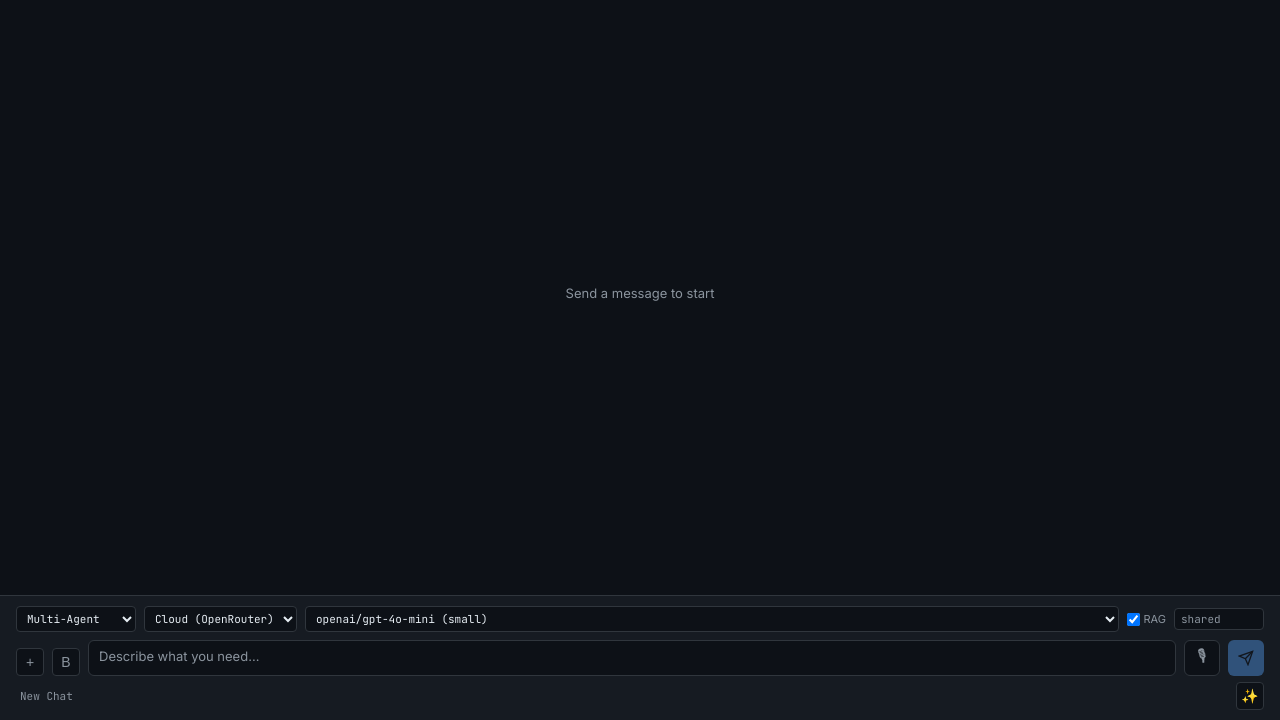
RAG toggle — ChatPanel integration › renders a RAG system bubble before the assistant reply
Step 1. Select "Simple Prompt" in the dropdown titled "Execution mode" → (76, 619), box [16,606,136,632]
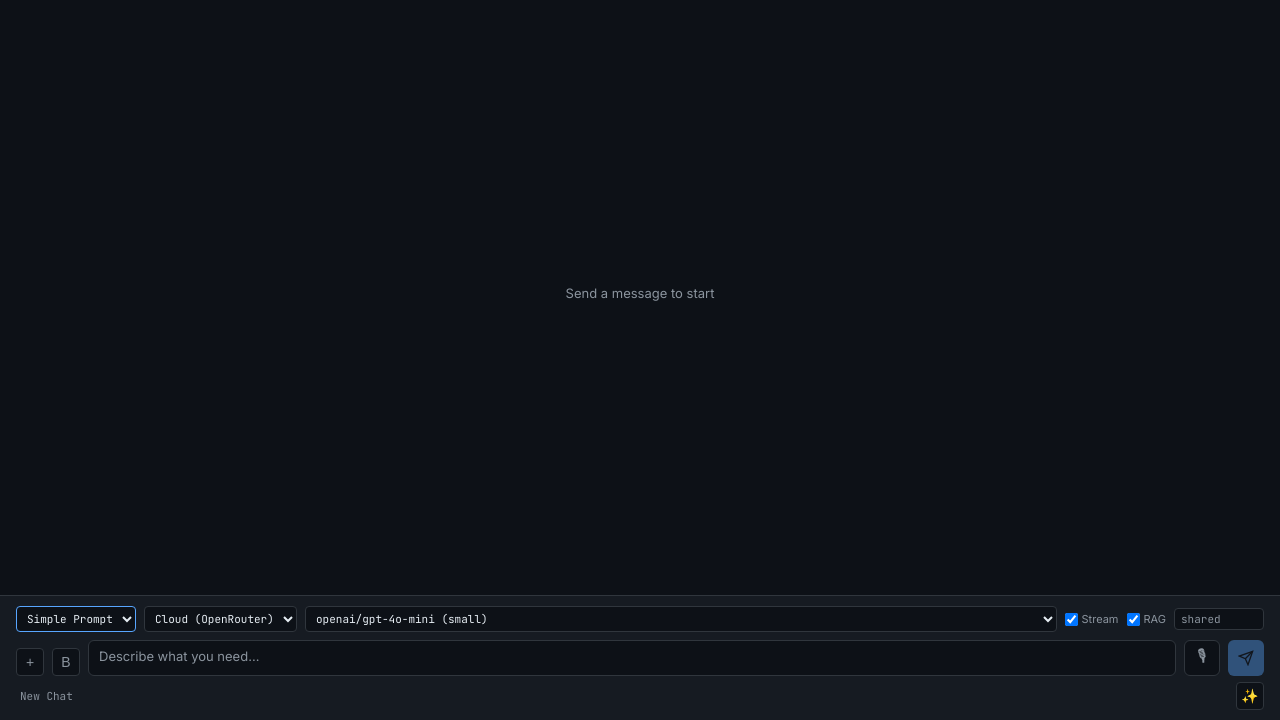
Step 2. Type "Tell me about RAG" into the text box with placeholder "Describe what you need..." → (632, 658), box [88,640,1176,676]
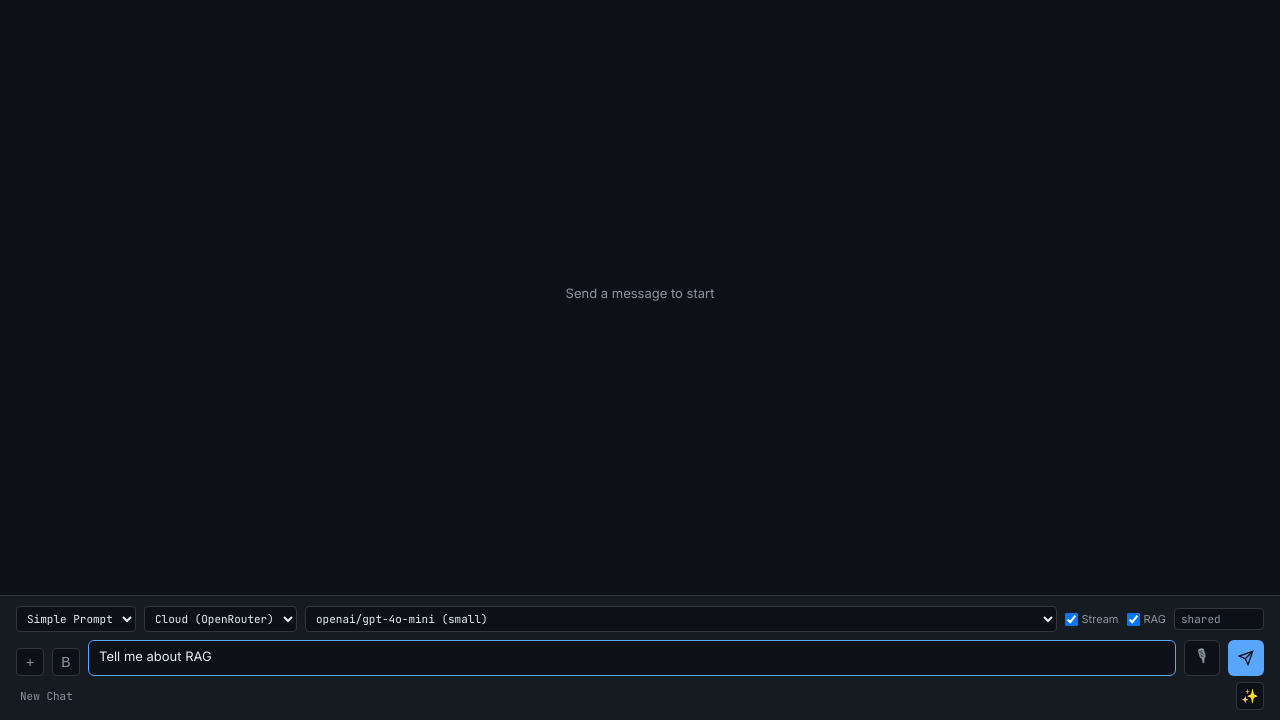
Step 3. Press Enter
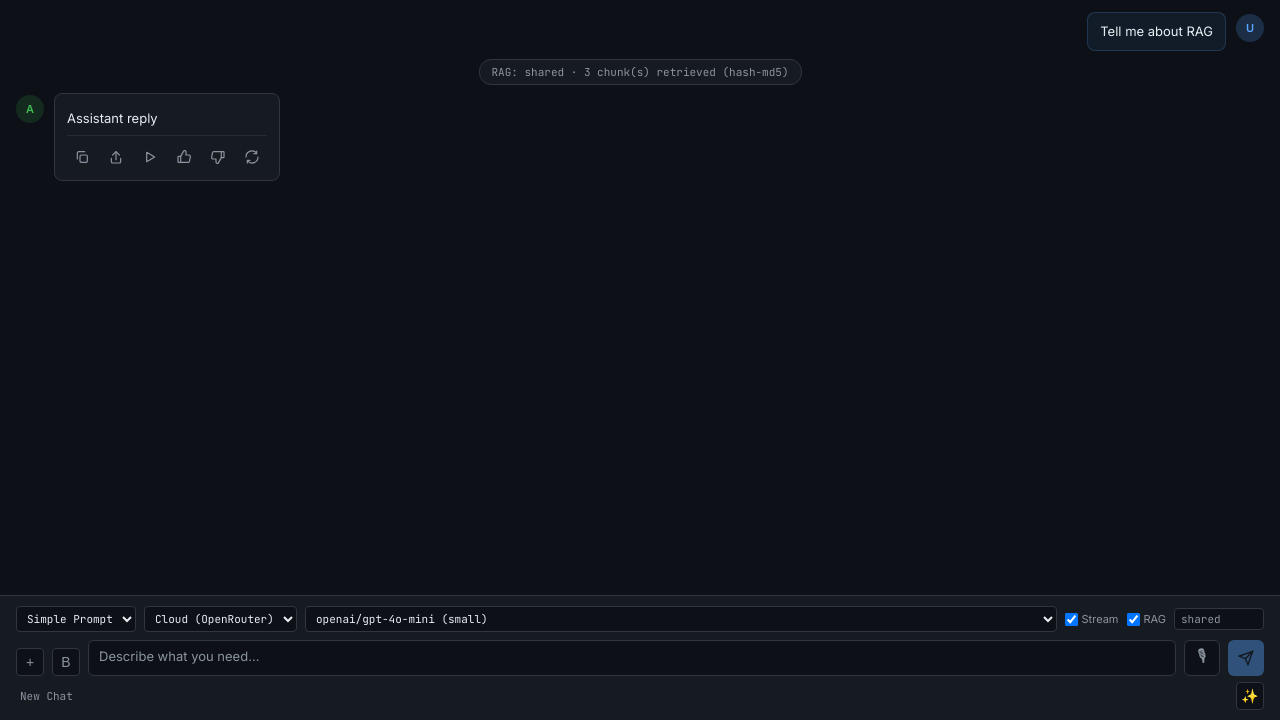
Expected: the text "RAG: shared · 3 chunk(s) retrieved (hash-md5)" is shown, [478,59,802,85]
